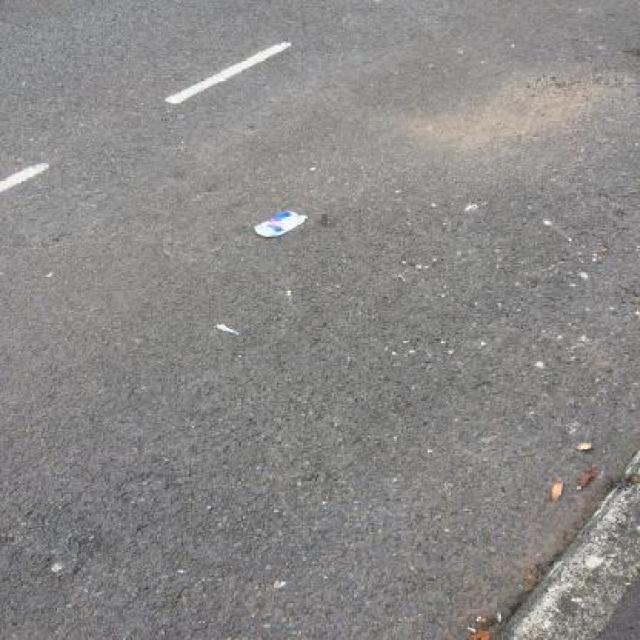Garbage: (255, 211, 308, 237), (216, 324, 240, 335)
